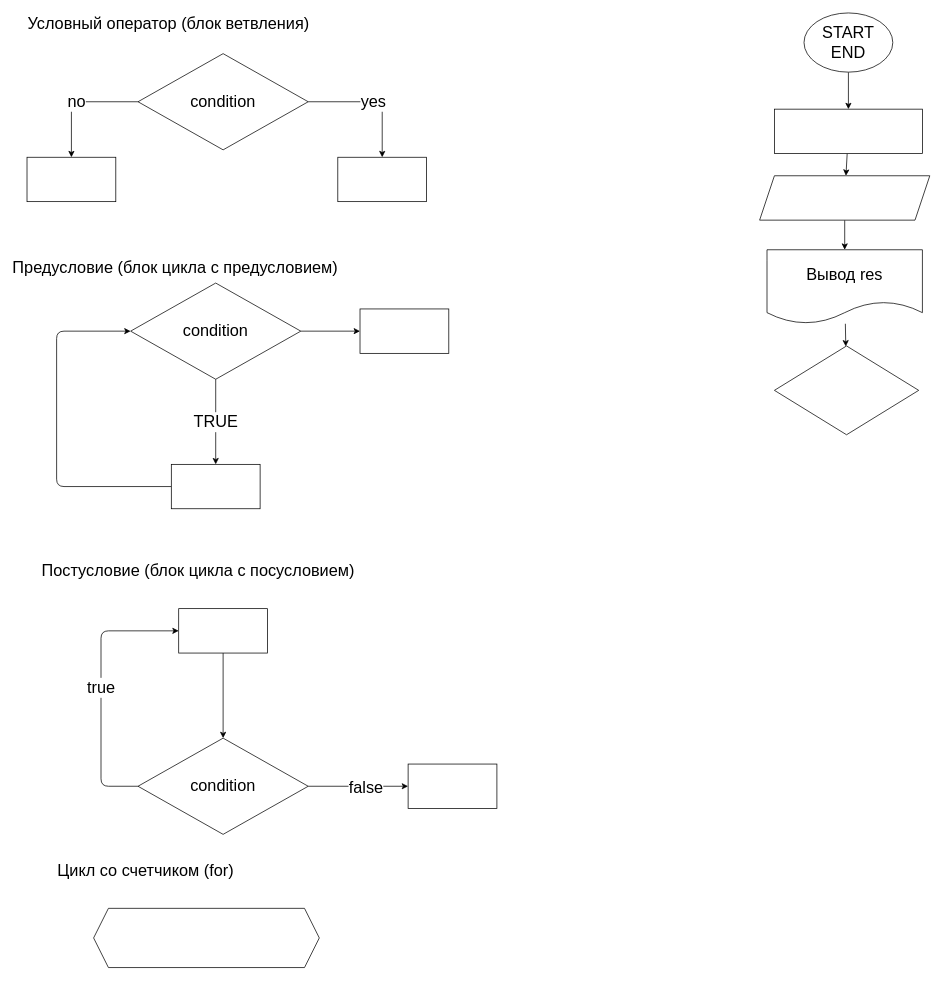
Image size: 943x981. Some labels were removed from this diagram. Here are the shapes that lost their labels. From the top down, the centre of each, then its label:
At (848,131): "count = 0 res = 1 * Sqrt(2)".
At (844,197): "Ввод count".
At (206,938): "count = 1, 10, 5 (начало, конец, шаг)".
